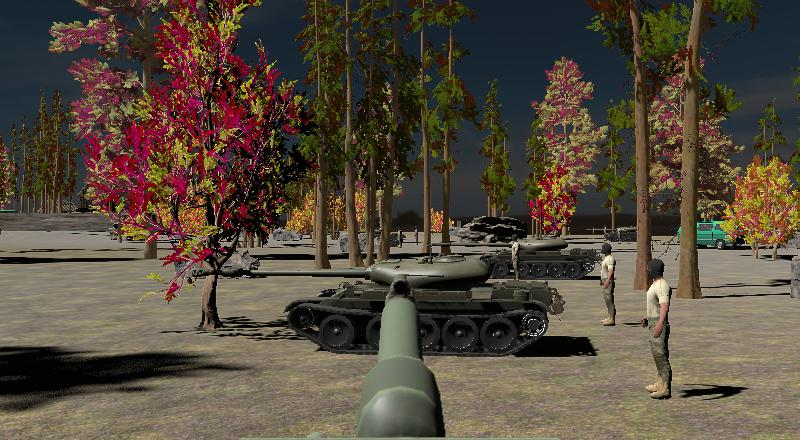Human: (643, 254, 675, 401), (597, 239, 619, 327)
Tank: (230, 252, 560, 358), (458, 235, 603, 282)
car: (687, 217, 729, 251)
